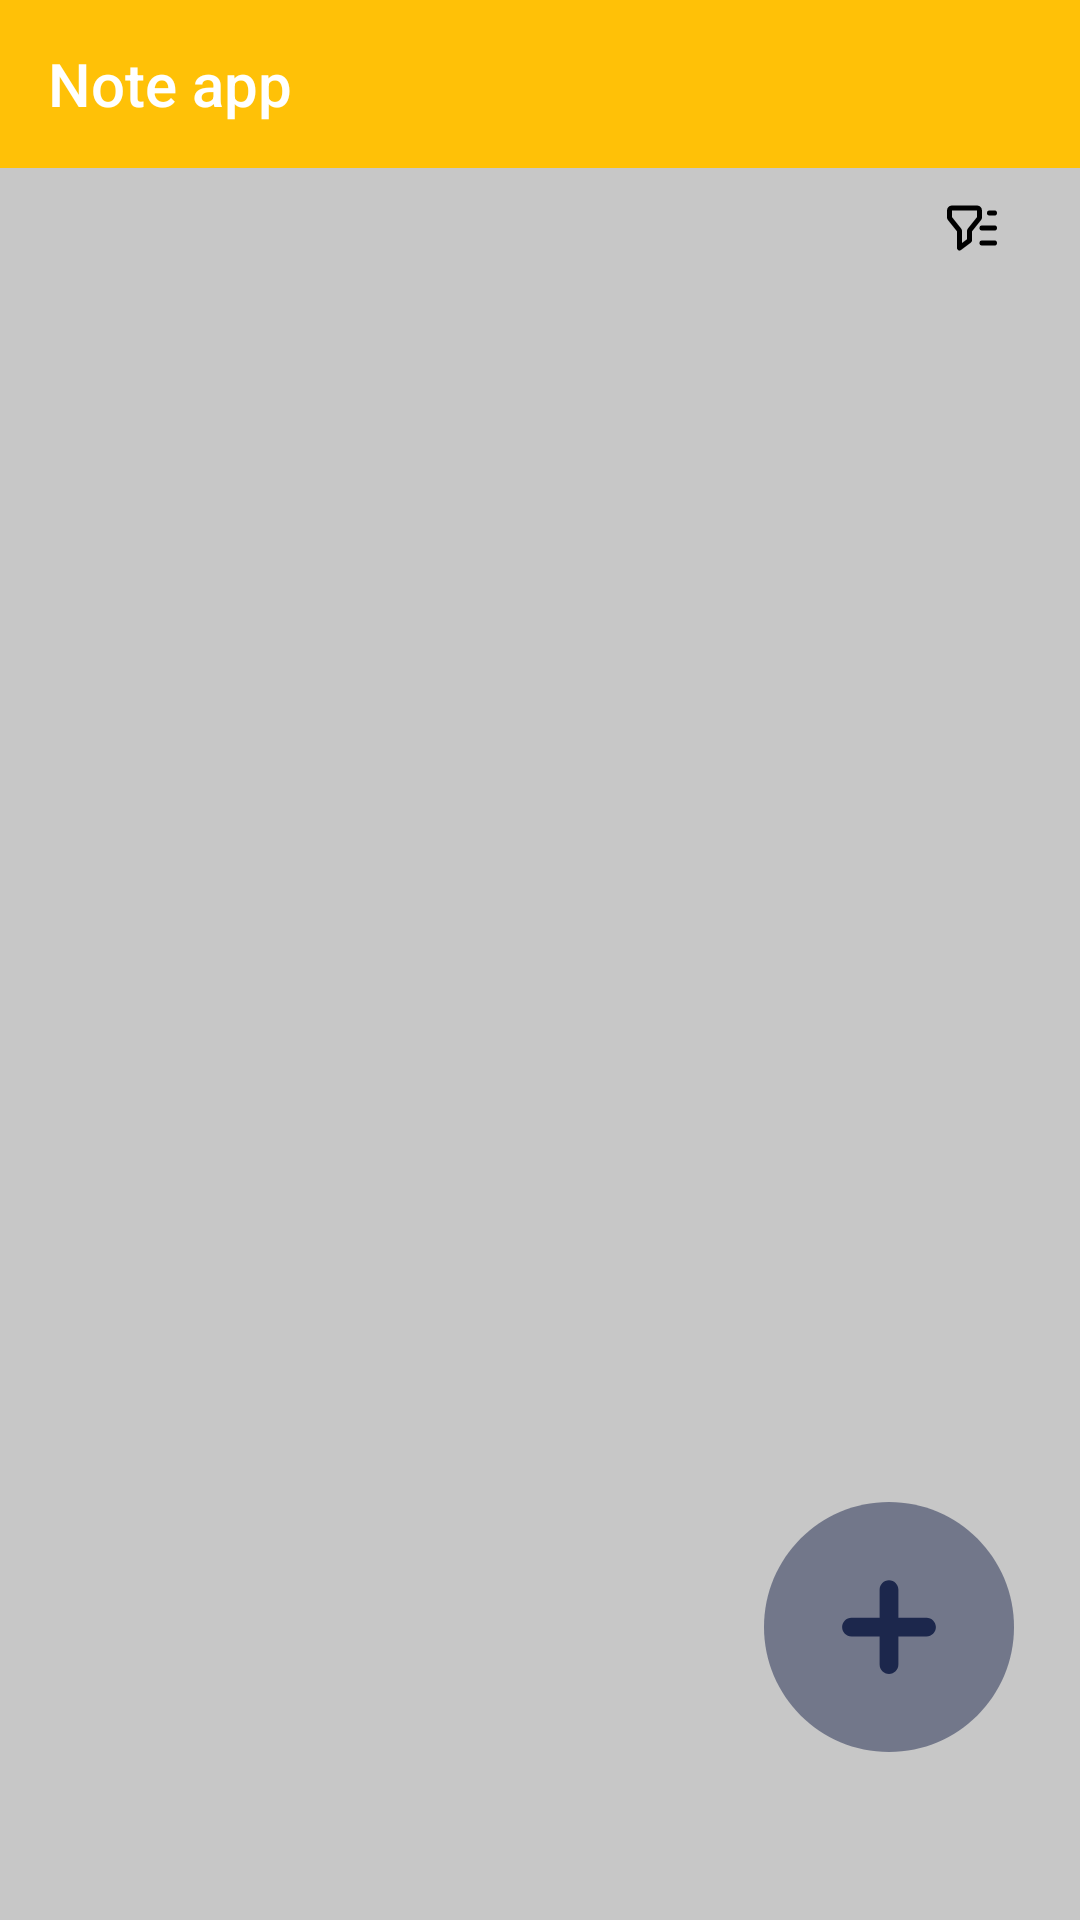

Icons on this 1080 x 1920 Android screen, each with the point to tap as point (x, y):
add circle: point (889, 1627)
filter list: point (972, 228)
